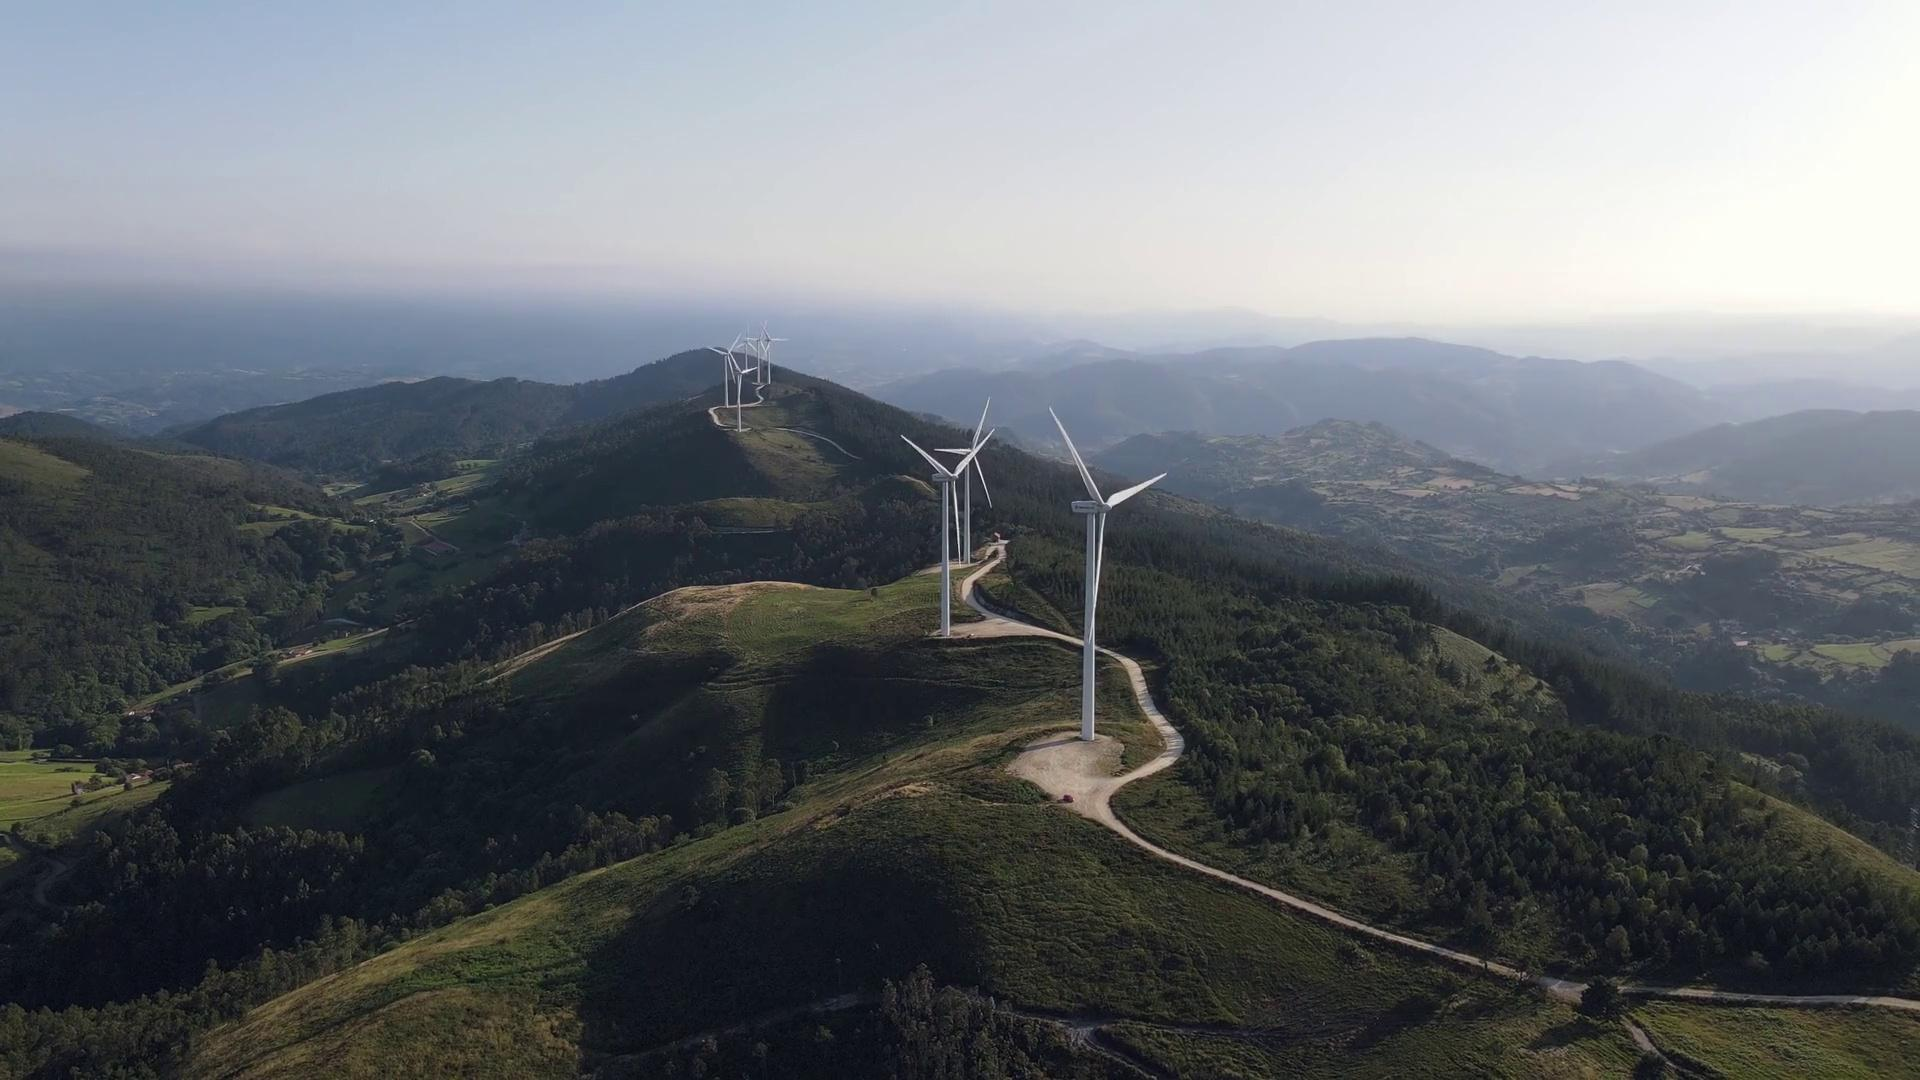turbine: (1018, 398, 1163, 753), (894, 433, 1005, 642), (934, 380, 1023, 575), (720, 361, 773, 442), (705, 328, 753, 414), (754, 315, 796, 397), (738, 320, 775, 398)
